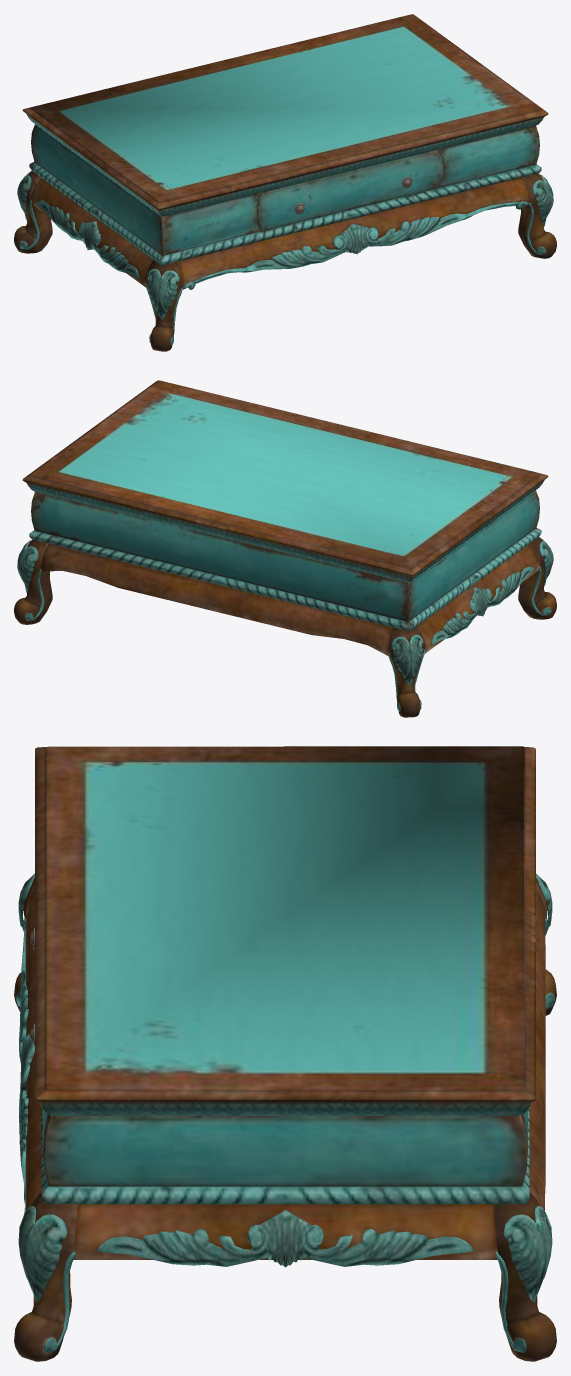
Rendered from CoffeeTable_01.glb.
3 renders of one model, top to bottom at view 1: azimuth 30°, elevation 25°; view 2: azimuth 150°, elevation 25°; view 3: azimuth 270°, elevation 25°, orthographic. The views are drawn at different scales.
Parts seen in each view (by area): view 1: CoffeeTable_01_0; view 2: CoffeeTable_01_0; view 3: CoffeeTable_01_0.
Part boxes in pixels (left/top/right/bottom): CoffeeTable_01_0: left=14, top=14, right=556, bottom=351; CoffeeTable_01_0: left=14, top=380, right=556, bottom=717; CoffeeTable_01_0: left=14, top=746, right=556, bottom=1361.
Size of the model in its own units: 1.54 by 0.5232 by 0.9728.
Materials: 1 (1 with a texture image).
